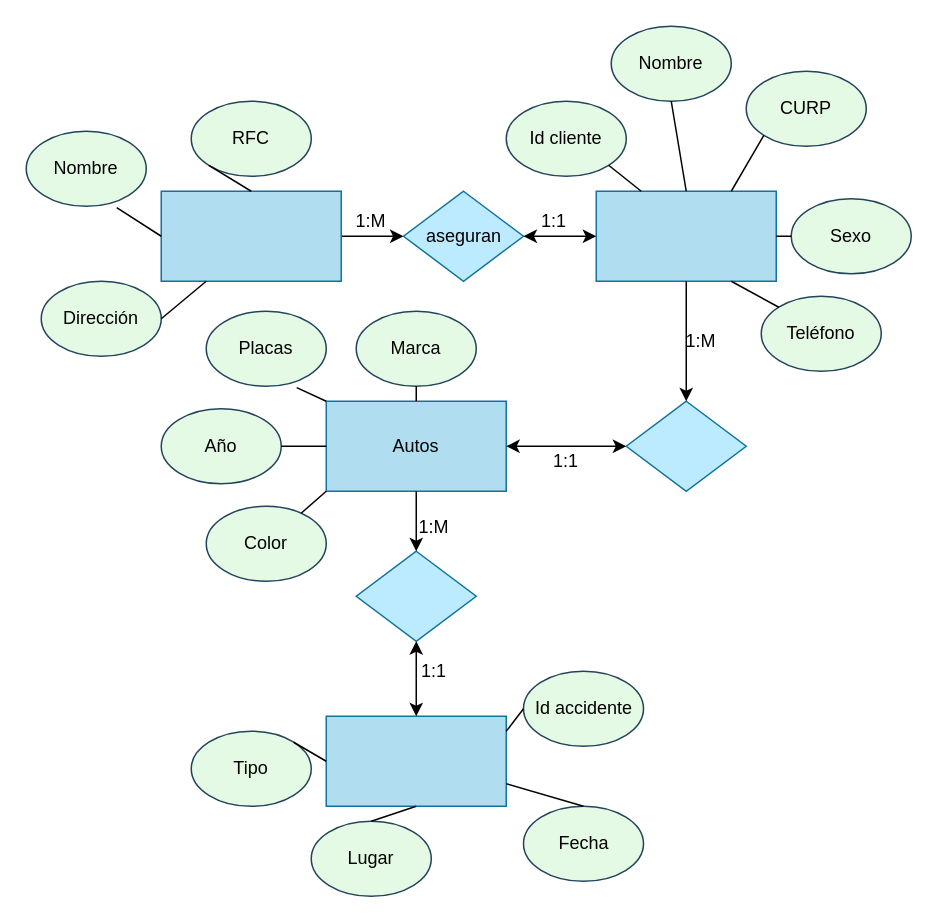
Image size: 938x923. Some labels were removed from this diagram. The box of each missing label's shape, as (x1, y1, x2, y2) in pixels:
Accidentes: (325, 715, 506, 806)
Aseguradora de autos: (160, 190, 341, 281)
Contratantes: (595, 190, 776, 281)
sufren: (355, 550, 476, 641)
tienen: (625, 400, 746, 491)
